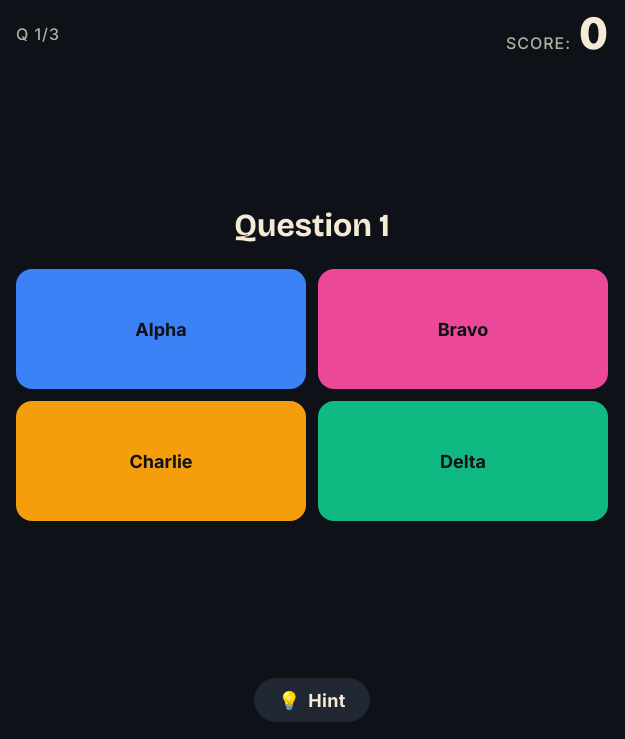
Test: GameScreen › transition to feedback phase › feedback overlay shows the correct verdict + 5 points for a correct answer
Click the button "Alpha" at (161, 329), box [16,269,306,389]
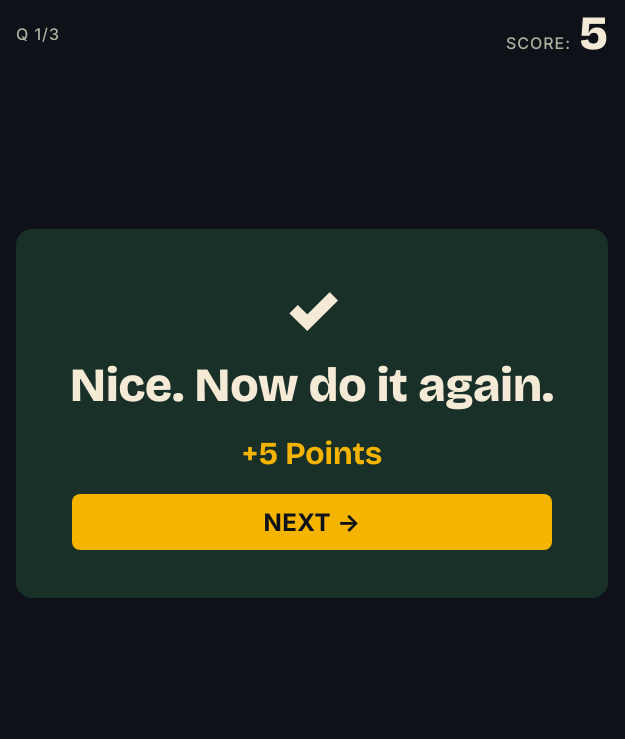
Check: the icon "✓" is shown, box [284,277,340,341]
Check: the text "+5 Points" is shown, box [242,430,382,478]
